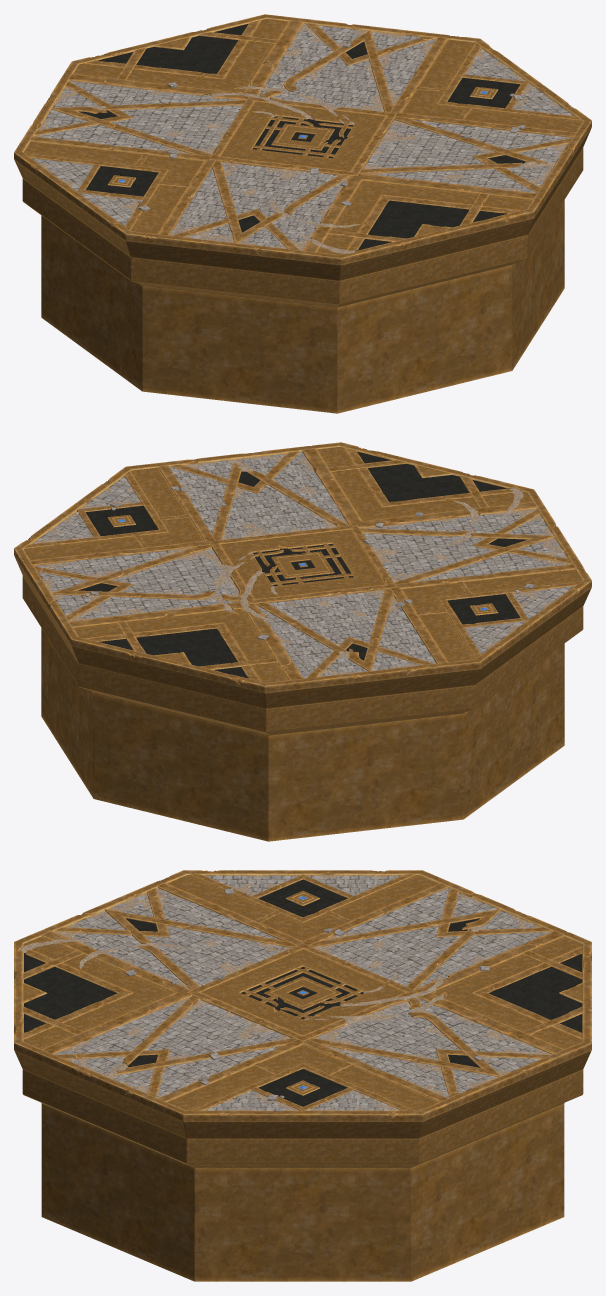
3 views of the same model, one above another, from view 1: azimuth 30°, elevation 25°; view 2: azimuth 150°, elevation 25°; view 3: azimuth 270°, elevation 25° (orthographic). The views are drawn at different scales.
Visible parts, largest first — view 1: SM_BossArena_Imaru_LOD0; view 2: SM_BossArena_Imaru_LOD0; view 3: SM_BossArena_Imaru_LOD0.
Part boxes in pixels (box(x1,y1,x2,y2)): SM_BossArena_Imaru_LOD0: box(14, 14, 591, 413); SM_BossArena_Imaru_LOD0: box(14, 442, 591, 841); SM_BossArena_Imaru_LOD0: box(14, 870, 591, 1281).
Size of the model in its own units: 78.66 by 27.19 by 78.66.
6 materials, 6 textured.
